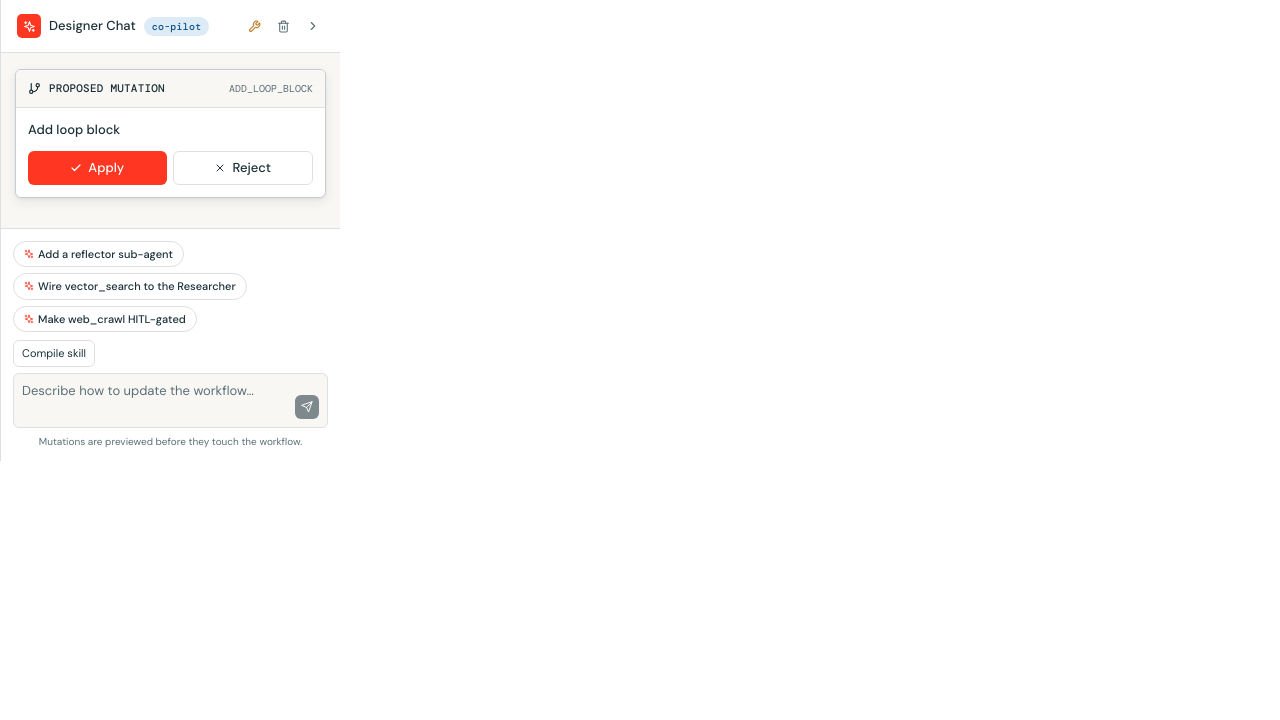
Test: ChatPanel › opens the conflict modal when apply returns a conflict (Fix #3)
The width and height of the screenshot is (1280, 720).
Step 1. Click the button with aria-label "Apply mutation" → point(97, 168), box [28,151,166,184]
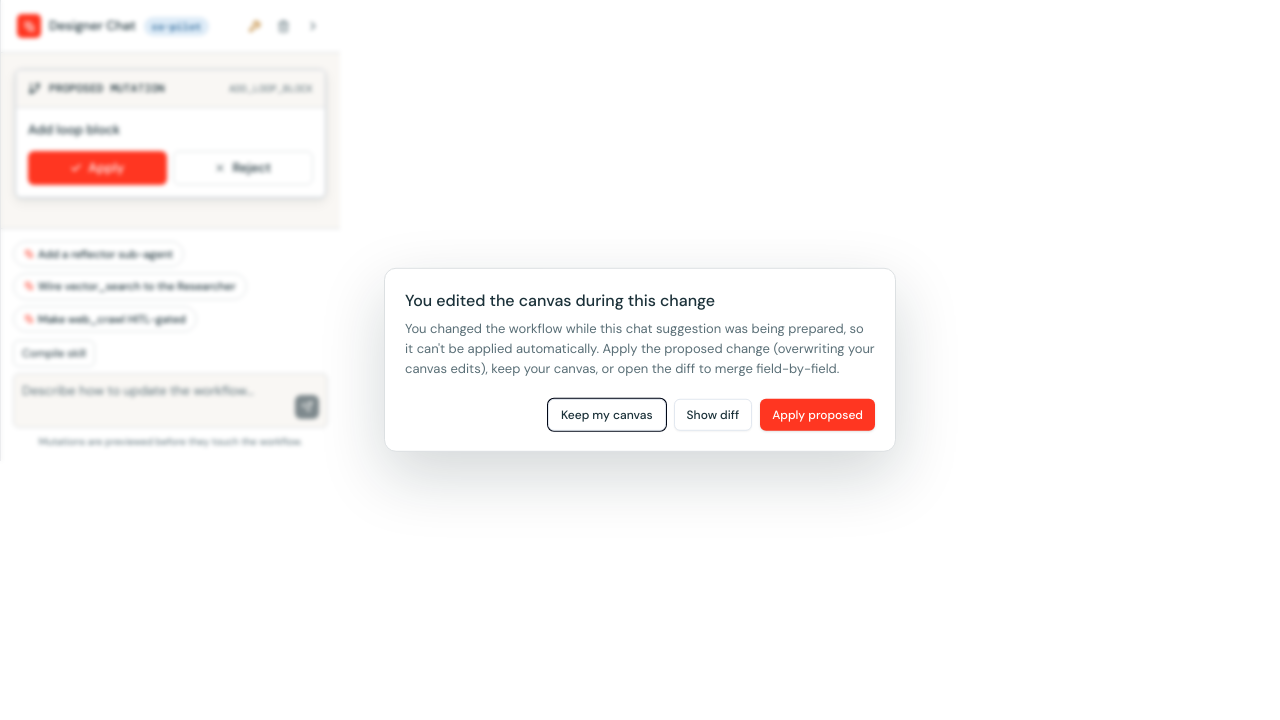
Now the heading "You edited the canvas during this change" is shown, box [405,290,715,311]
Now the button with aria-label "Apply the proposed change" is shown, box [760,399,875,431]
